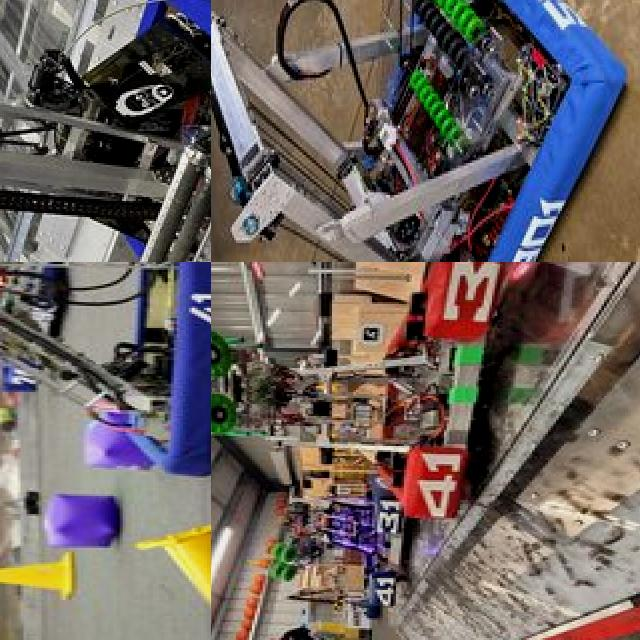FRC-Robots: (211, 262, 640, 640), (211, 0, 640, 262), (0, 0, 211, 262), (0, 262, 211, 482), (271, 453, 417, 640)
